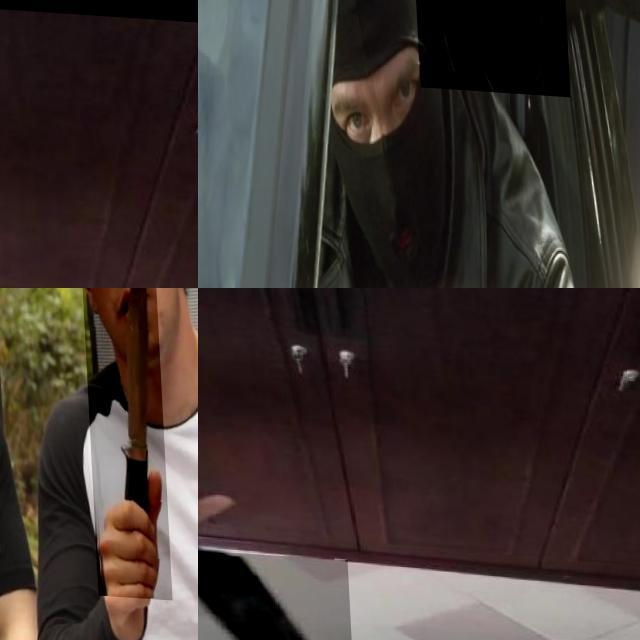-: (77, 288, 167, 594), (198, 546, 351, 640)
gun-knife-thesis - v11 Yolov5 augmented: (405, 0, 566, 146)
